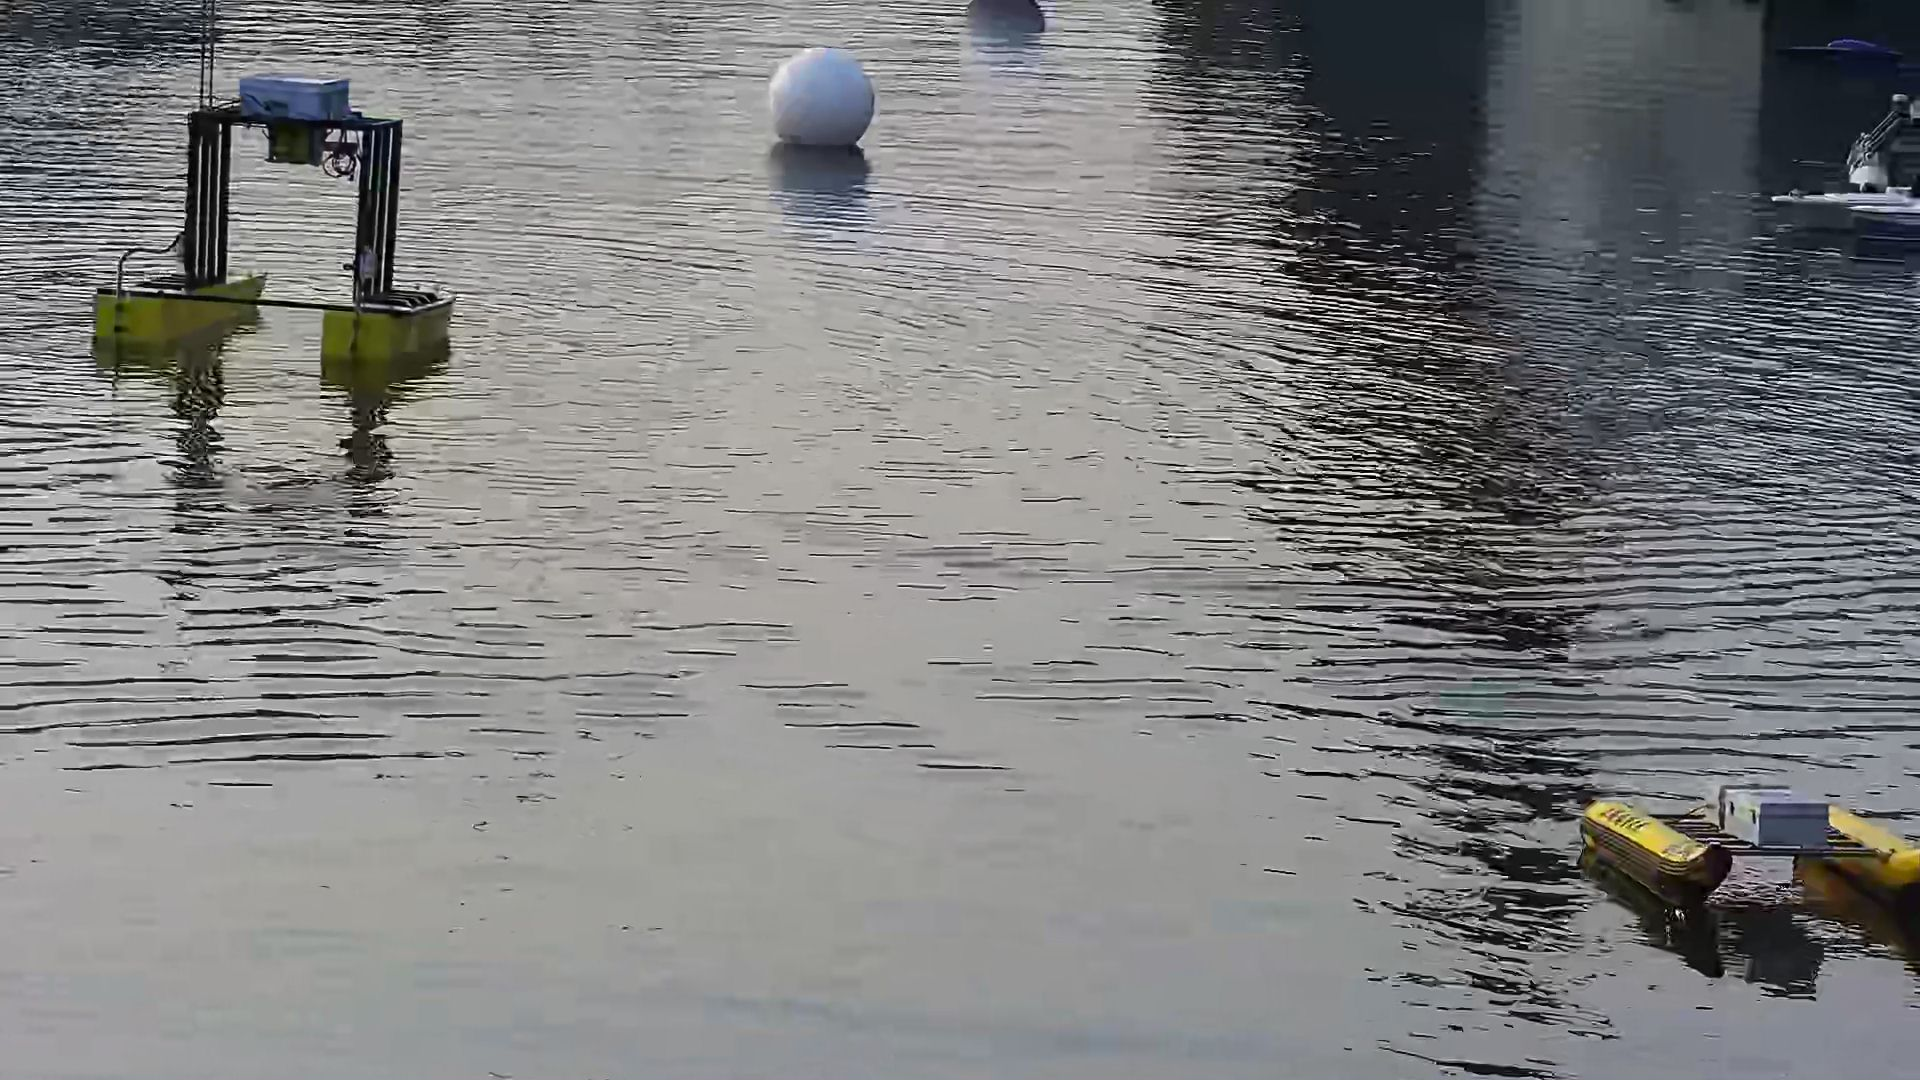ball: (769, 49, 885, 156)
boat: (82, 69, 468, 372), (1573, 778, 1920, 905)
